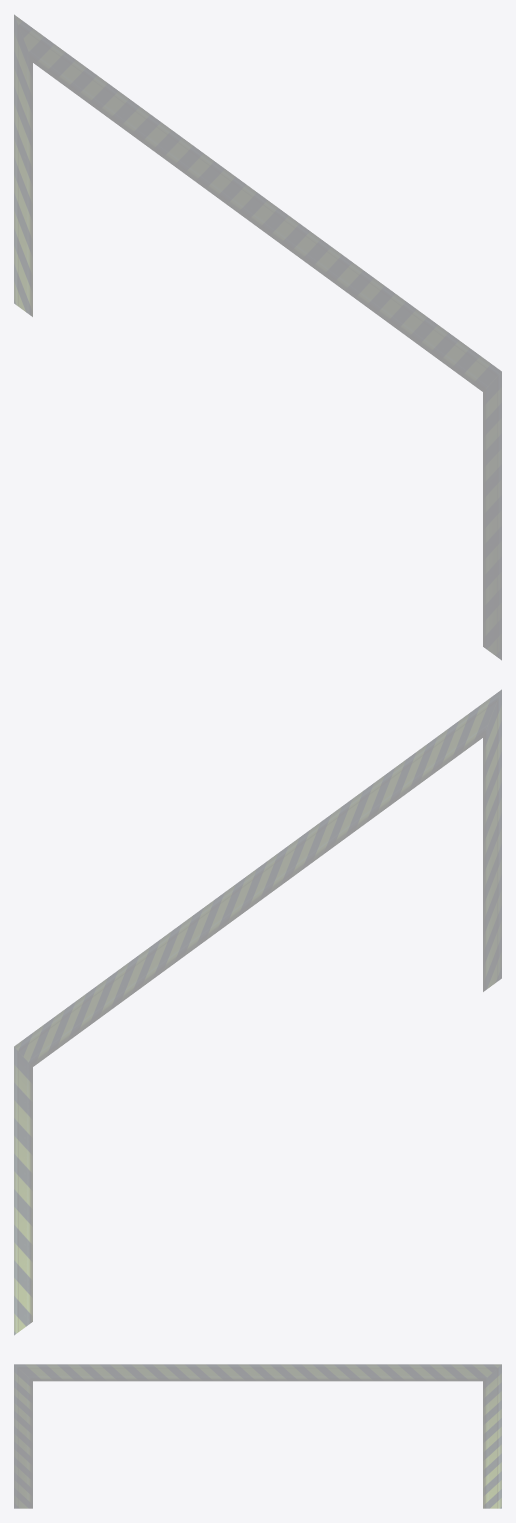
The model's file is PelagicIIExploration_Alpha_81.glb.
3 views of the same model, one above another, from view 1: azimuth 30°, elevation 25°; view 2: azimuth 150°, elevation 25°; view 3: azimuth 270°, elevation 25° (orthographic). The views are drawn at different scales.
Parts seen in each view (by area): view 1: PelagicIIExploration_Alpha_81; view 2: PelagicIIExploration_Alpha_81; view 3: PelagicIIExploration_Alpha_81.
Part boxes in pixels (x1,y1,x2,y2): PelagicIIExploration_Alpha_81: [14, 15, 501, 659]; PelagicIIExploration_Alpha_81: [14, 690, 501, 1334]; PelagicIIExploration_Alpha_81: [14, 1364, 501, 1508].
Bounding box in the file's own units: 0 × 48.13 × 147.
1 material, 1 textured.
